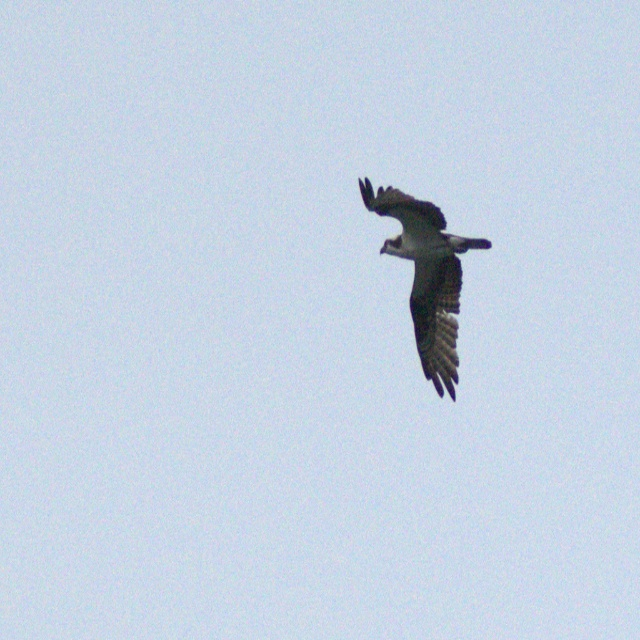Eagle: (358, 174, 498, 400)
